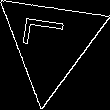L_E: (25, 23, 76, 61)
